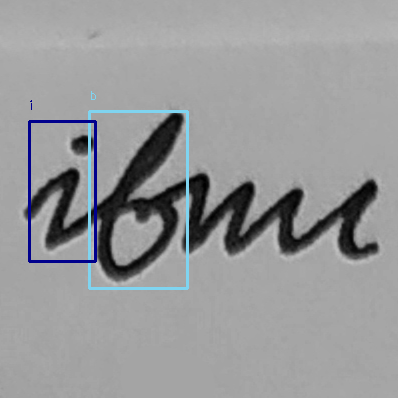b: (94, 108, 189, 283)
i: (35, 131, 97, 253)
n: (177, 168, 261, 263)
u: (266, 168, 386, 268)
